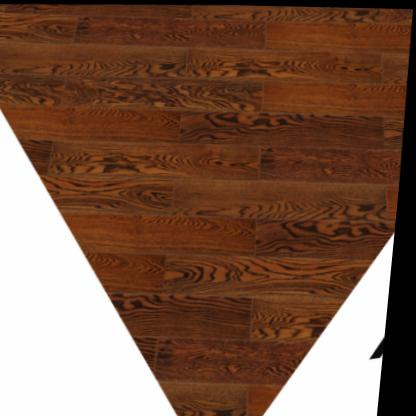Wooden floor: (0, 4, 412, 416)
